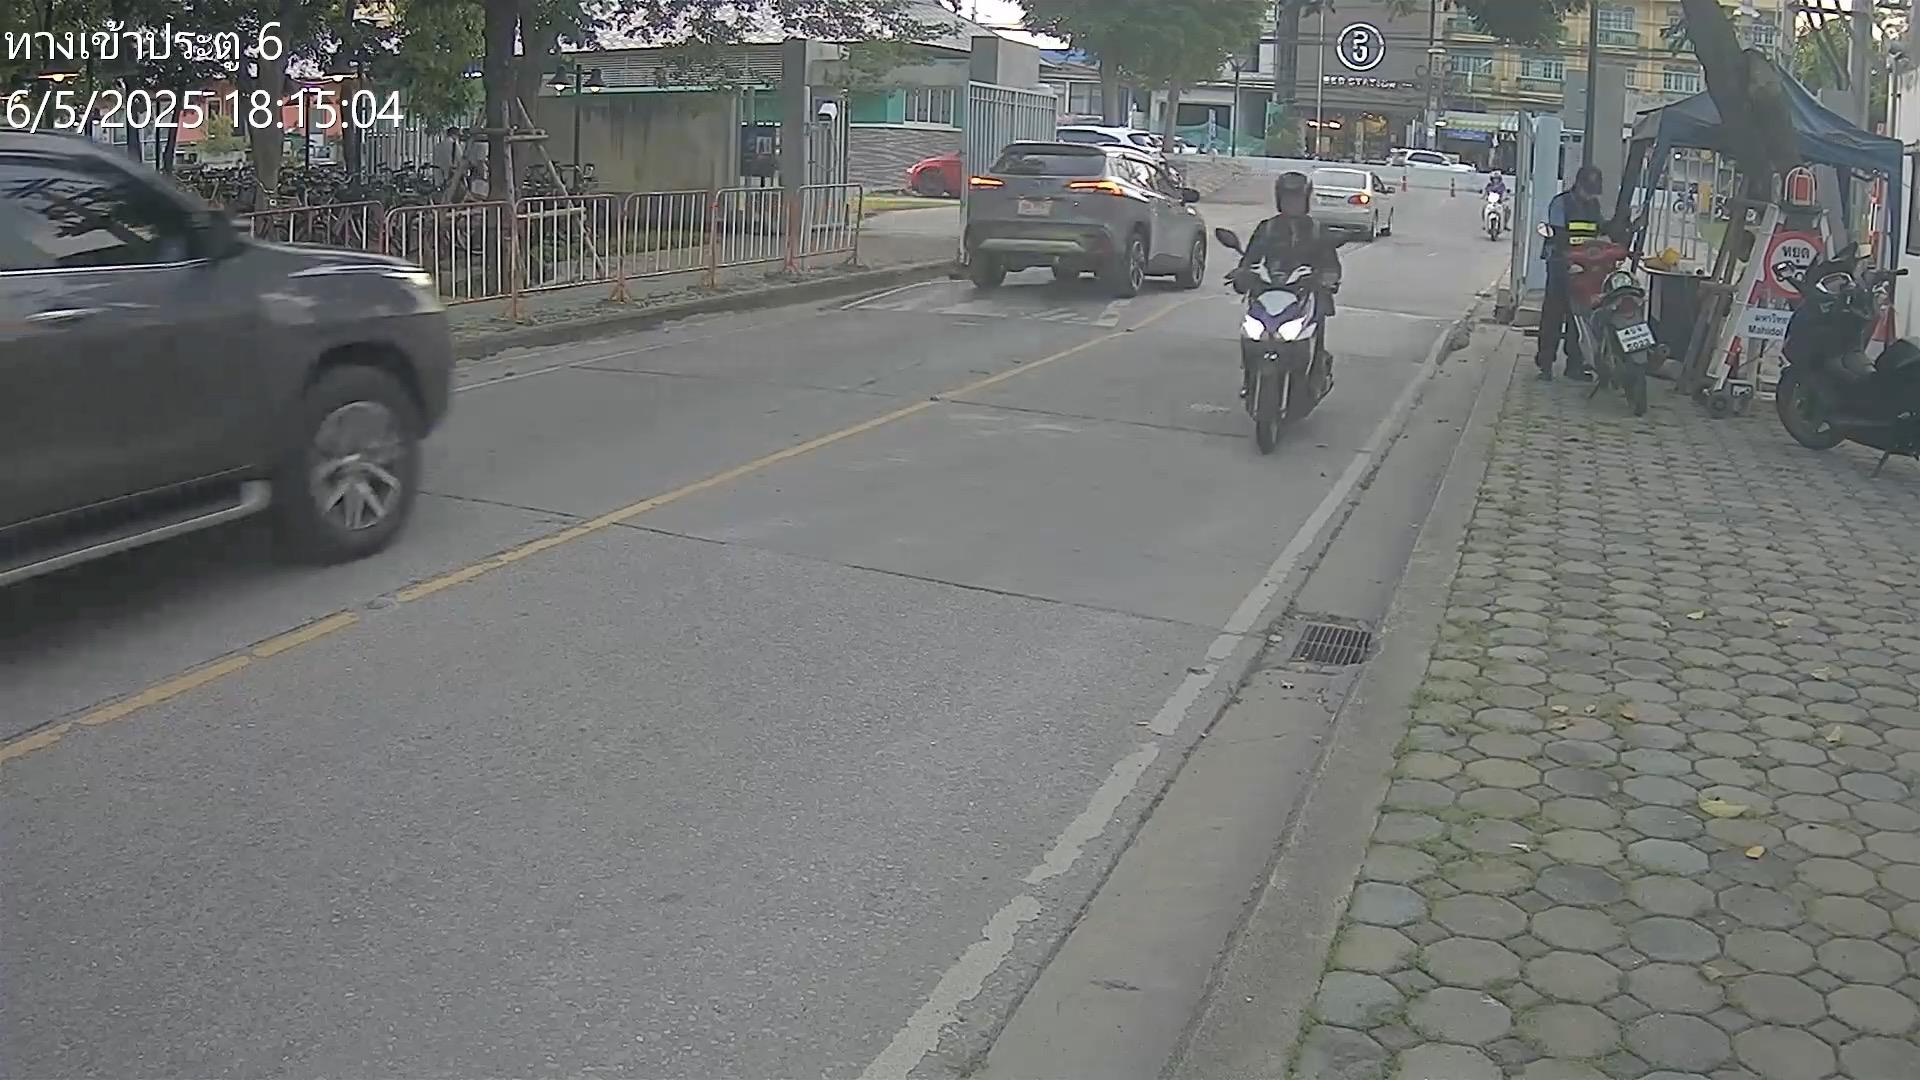With-Helmet: (1276, 169, 1312, 218), (1490, 167, 1503, 183)
